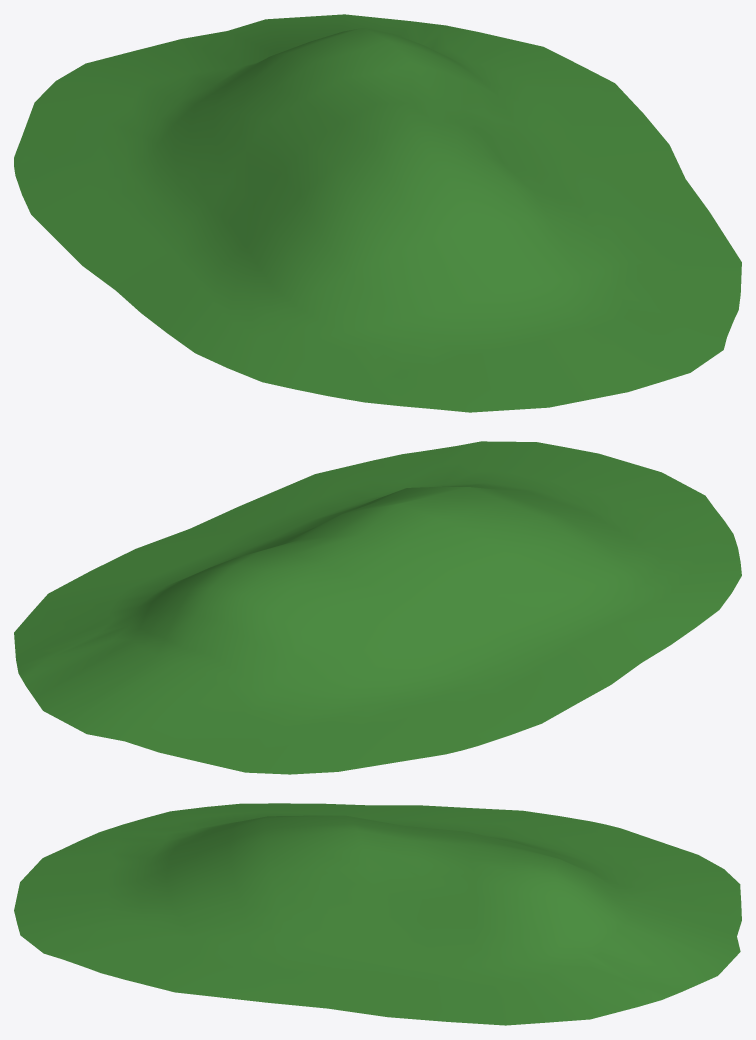
File: Relevo1.fbx
3 views of the same model, one above another, from view 1: azimuth 30°, elevation 25°; view 2: azimuth 150°, elevation 25°; view 3: azimuth 270°, elevation 25° (orthographic). The views are drawn at different scales.
Parts seen in each view (by area): view 1: Relevo1; view 2: Relevo1; view 3: Relevo1.
Boxes of the visible parts, box(x1,y1,x2,y2) form: Relevo1: box(14, 14, 741, 412); Relevo1: box(14, 441, 741, 774); Relevo1: box(14, 803, 741, 1025).
Size of the model in its own units: 1199 by 204 by 1660.
